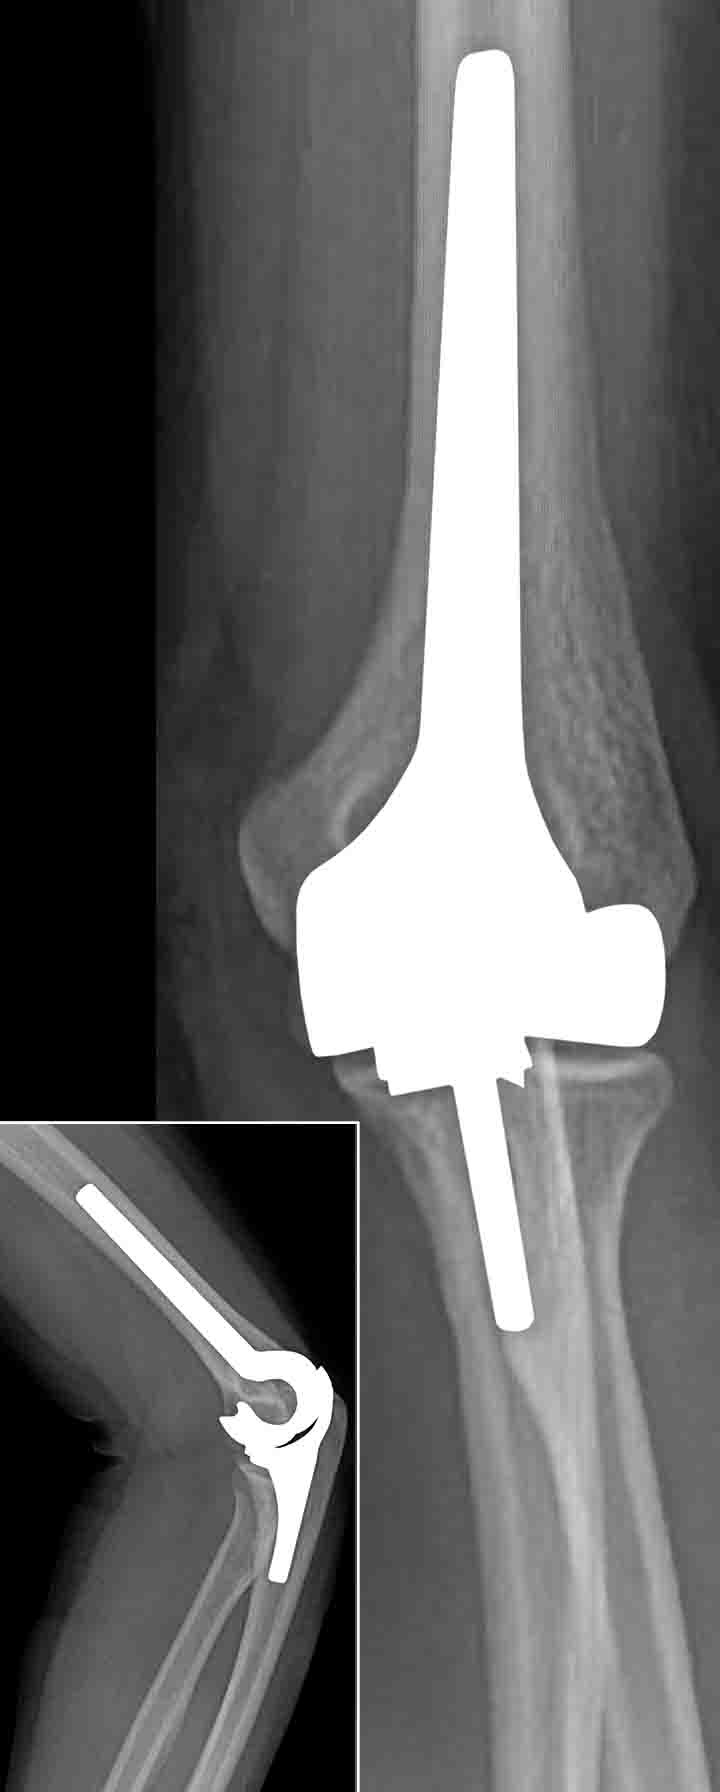Elbow - IBP - Biomet: (290, 45, 697, 1336), (53, 1163, 361, 1618)
